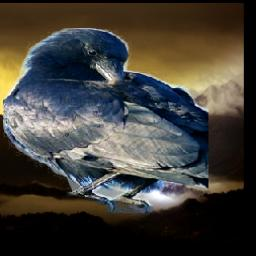Crow: (4, 29, 209, 214)
